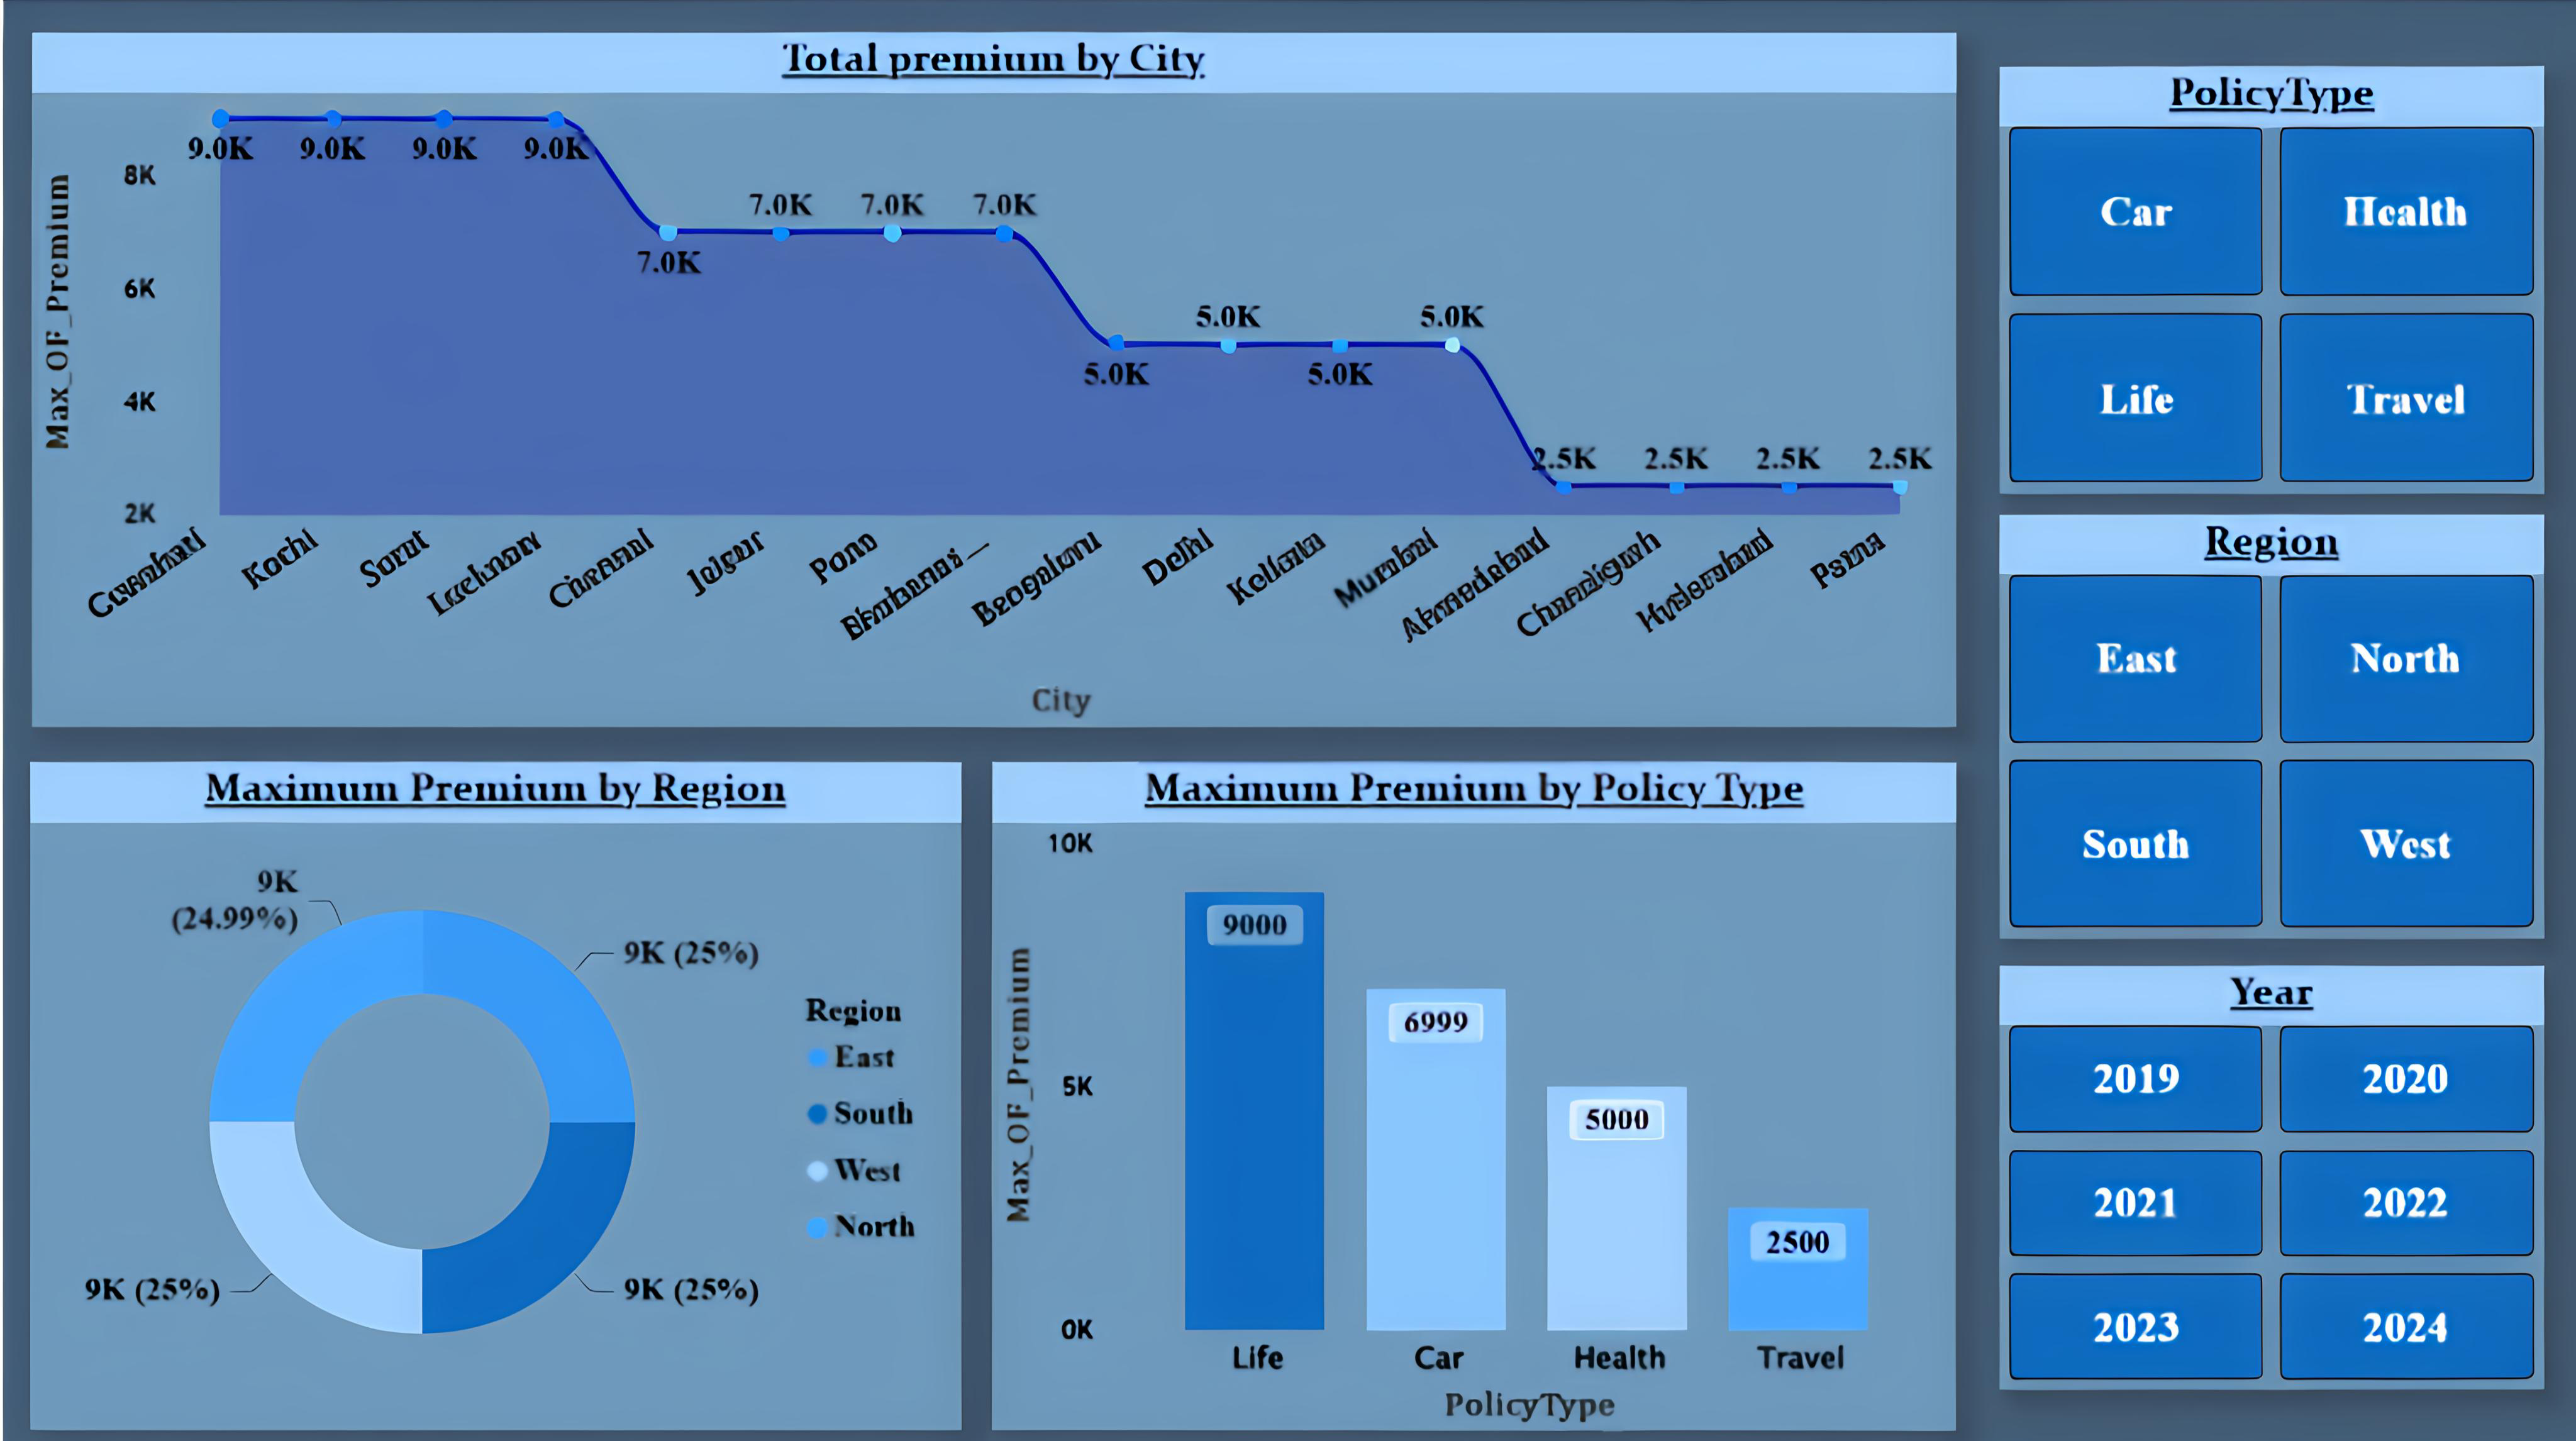

Layout of this report page (visuals, bound fields, positions):
{"tool":"powerbi","page":{"name":"Page 7","canvas":[1280,720],"ordinal":7},"visuals":[{"type":"areaChart","title":"Maximum premium by City","fields":{"Category":["insurance_dataset_10000_with_city.City"],"Y":["Insurance.Max_OF_Premium"]},"box":[14,16.3,950,343],"z":0},{"type":"advancedSlicerVisual","fields":{"Values":["Insurance.PolicyStartDate.Variation.Date Hierarchy.Year"]},"box":[986.6,477.5,269,209.9],"z":1000},{"type":"advancedSlicerVisual","fields":{"Values":["Insurance.PolicyType"]},"box":[986.6,32.9,269,211.3],"z":2000},{"type":"clusteredColumnChart","title":"Maximum Premium by Policy Type","fields":{"Category":["Insurance.PolicyType"],"Y":["Insurance.Max_OF_Premium"]},"box":[488.5,377.4,476.2,330.7],"z":3000},{"type":"donutChart","title":"Maximum Premium by Region","fields":{"Category":["Insurance.Region"],"Y":["Insurance.Max_OF_Premium"]},"box":[13.7,377.4,459.7,330.7],"z":4000},{"type":"advancedSlicerVisual","fields":{"Values":["Insurance.Region"]},"box":[986.6,255.2,269,209.9],"z":5000}]}

Visuals, with their boxes in screenshot pixels (x1, y1, x2, y2), scaled from the page's 1280x720 canvas onto the 2576x1441 screenshot:
"Maximum premium by City" areaChart: <box>28,33,1940,719</box>
advancedSlicerVisual - Insurance.PolicyStartDate.Variation.Date Hierarchy.Year: <box>1985,956,2527,1376</box>
advancedSlicerVisual - Insurance.PolicyType: <box>1985,66,2527,489</box>
"Maximum Premium by Policy Type" clusteredColumnChart: <box>983,755,1941,1417</box>
"Maximum Premium by Region" donutChart: <box>28,755,953,1417</box>
advancedSlicerVisual - Insurance.Region: <box>1985,511,2527,931</box>
